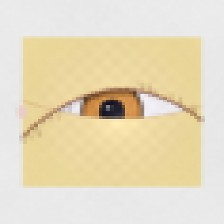pinguecula_lesion: (142, 102, 187, 138)
